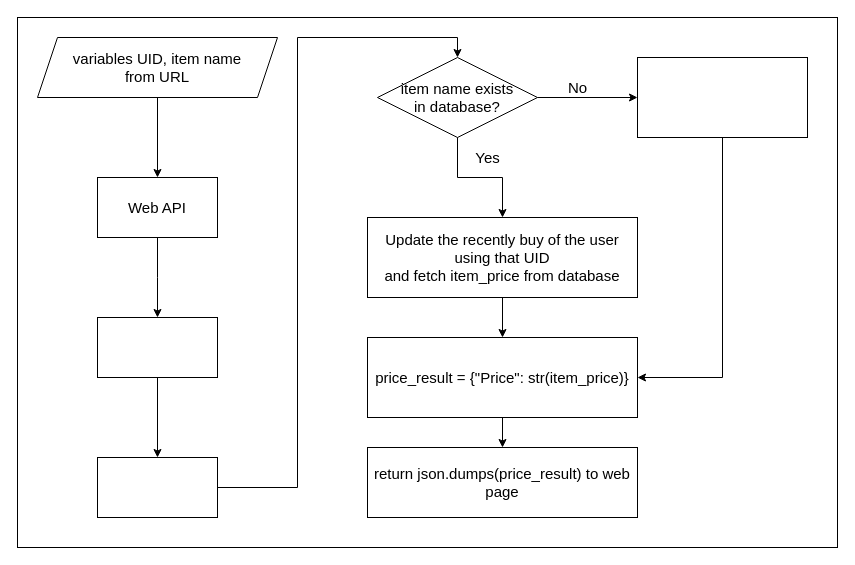
This 855x565 diagram has some shape labels left out. The centre of each missing label's shape, as x and y in pixels:
/buyitem&UID: (x=157, y=347)
Database: (x=157, y=487)
item_price = 'NULL': (x=722, y=97)
